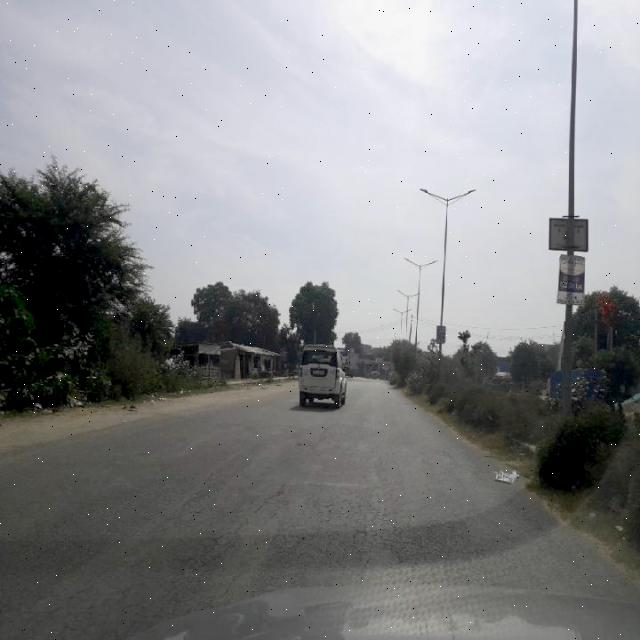D20: (202, 476, 476, 572)
